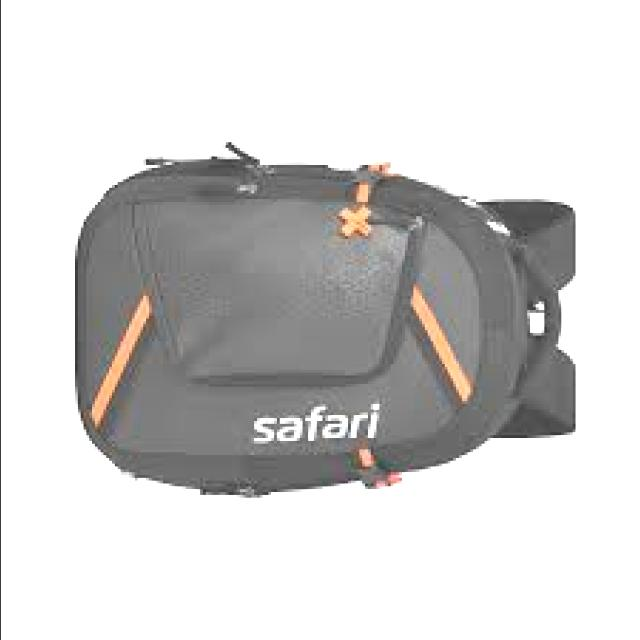backpack: (75, 143, 581, 499)
